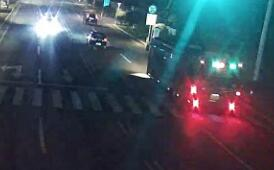bus: (143, 34, 244, 115)
car: (86, 29, 109, 49), (39, 4, 60, 24), (79, 10, 103, 27)
